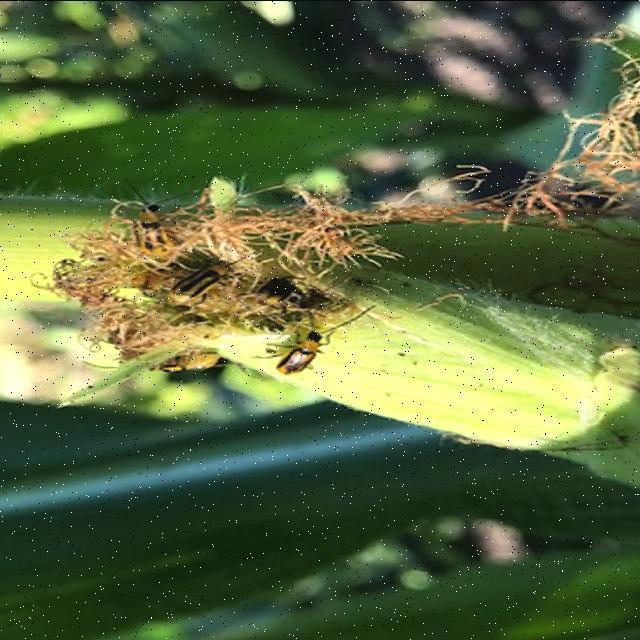trips: (157, 257, 245, 303), (273, 321, 345, 377)
